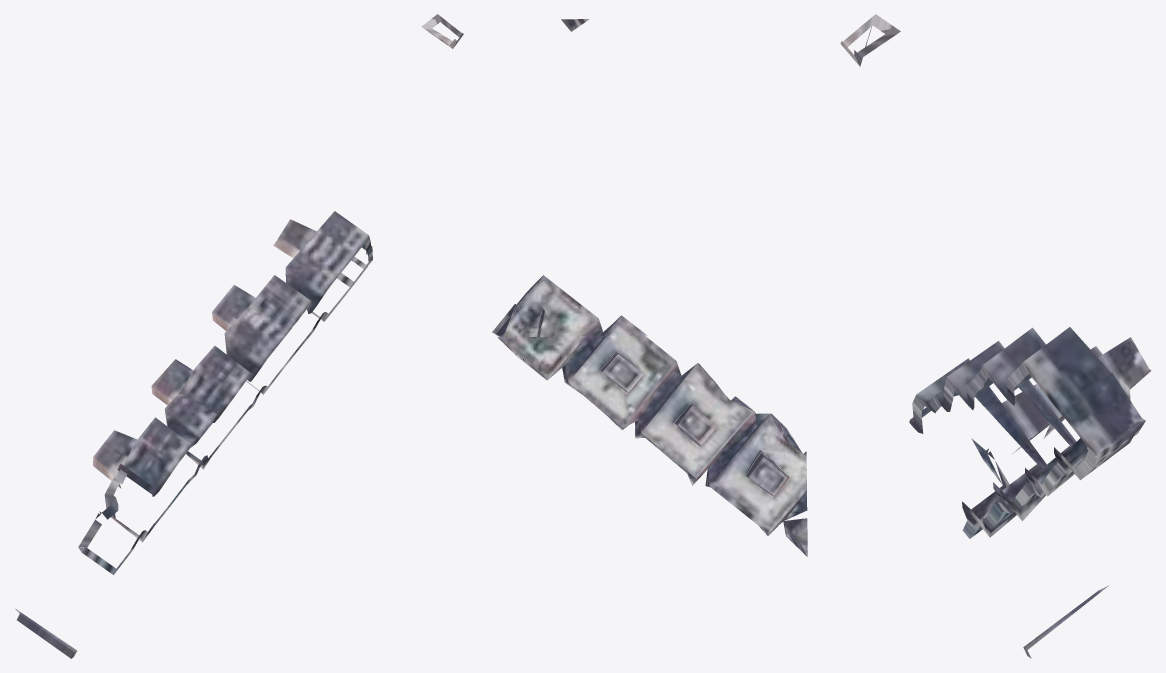
3 views of the same model, side by side, from view 1: azimuth 30°, elevation 25°; view 2: azimuth 150°, elevation 25°; view 3: azimuth 270°, elevation 25° (orthographic). The views are drawn at different scales.
Size of the model in its own units: 90.13 by 143 by 47.61.
Materials: 1 (1 with a texture image).
